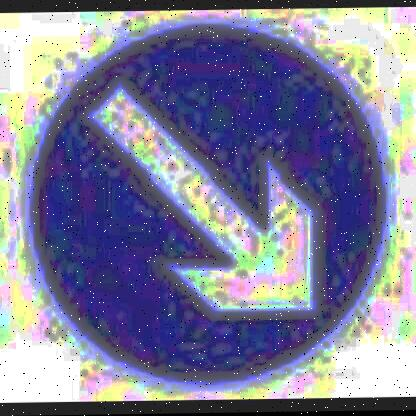Keep right: (20, 23, 390, 398)
